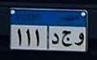1: (35, 29, 40, 47), (17, 27, 21, 46), (27, 29, 31, 45)
daal: (51, 32, 59, 45)
jeem: (61, 30, 73, 47)
waw: (74, 32, 85, 47)
